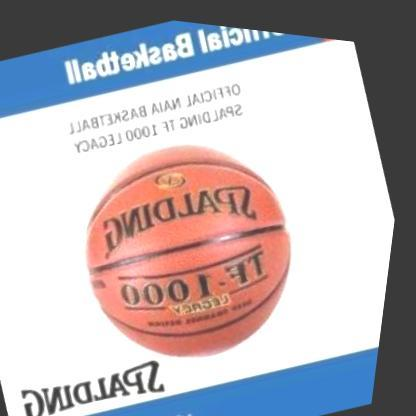basketball: (46, 96, 339, 389)
